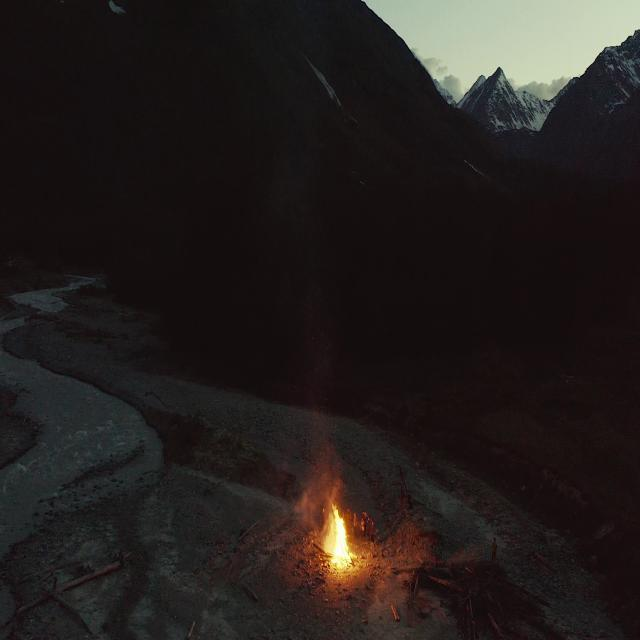Fire: (314, 500, 356, 569)
